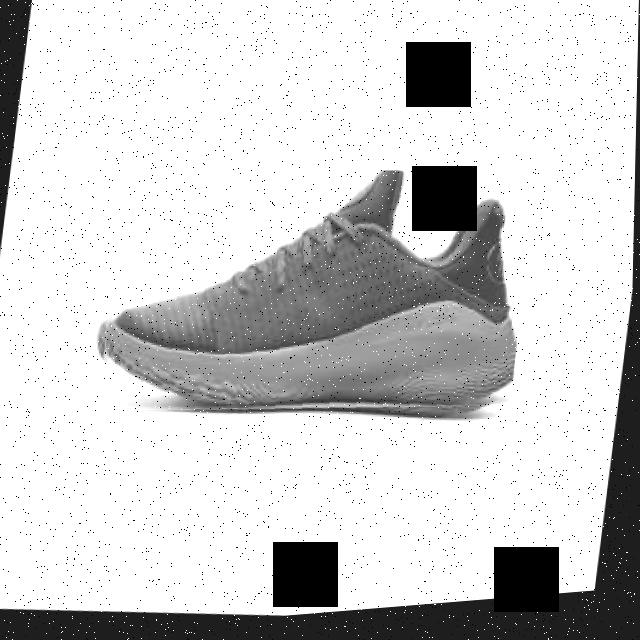shoe: (89, 139, 539, 456)
